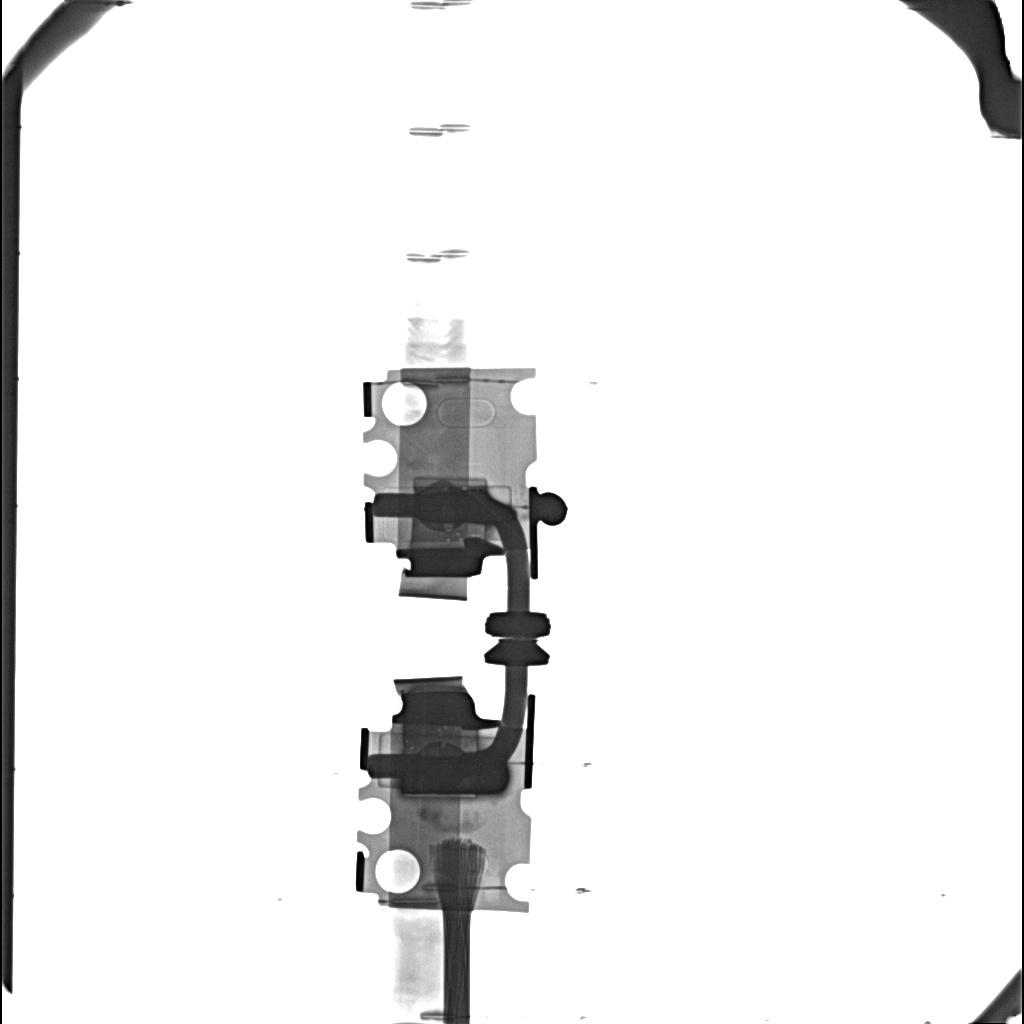气孔: (412, 476, 488, 486), (403, 794, 478, 798)
水纹: (403, 752, 508, 793), (409, 488, 517, 523)
